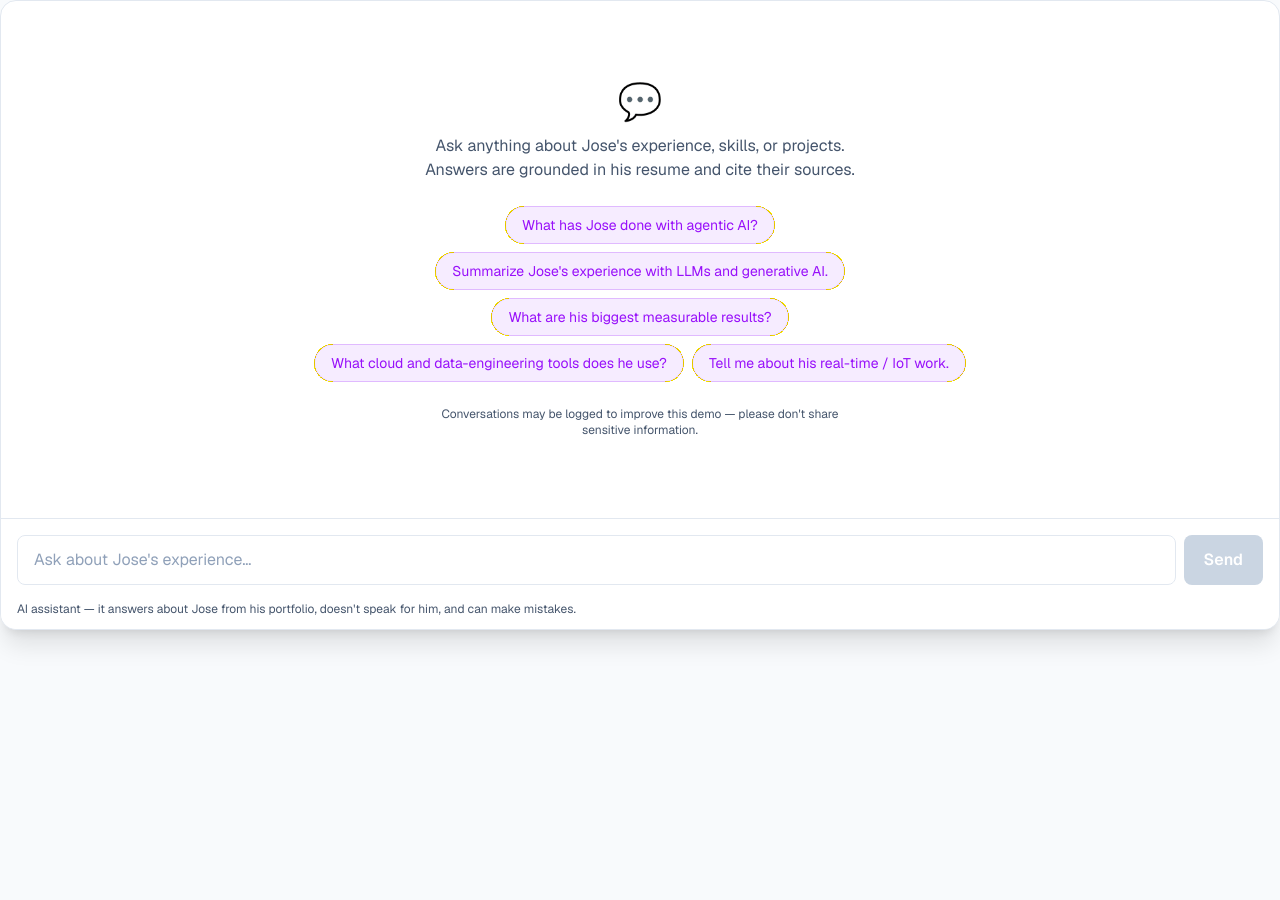
Test: AiChat (streaming) › shows an error bubble when the backend returns a non-OK response
Click the button "What are his biggest measurable results?".
click(640, 316)  # box [491,298,788,336]
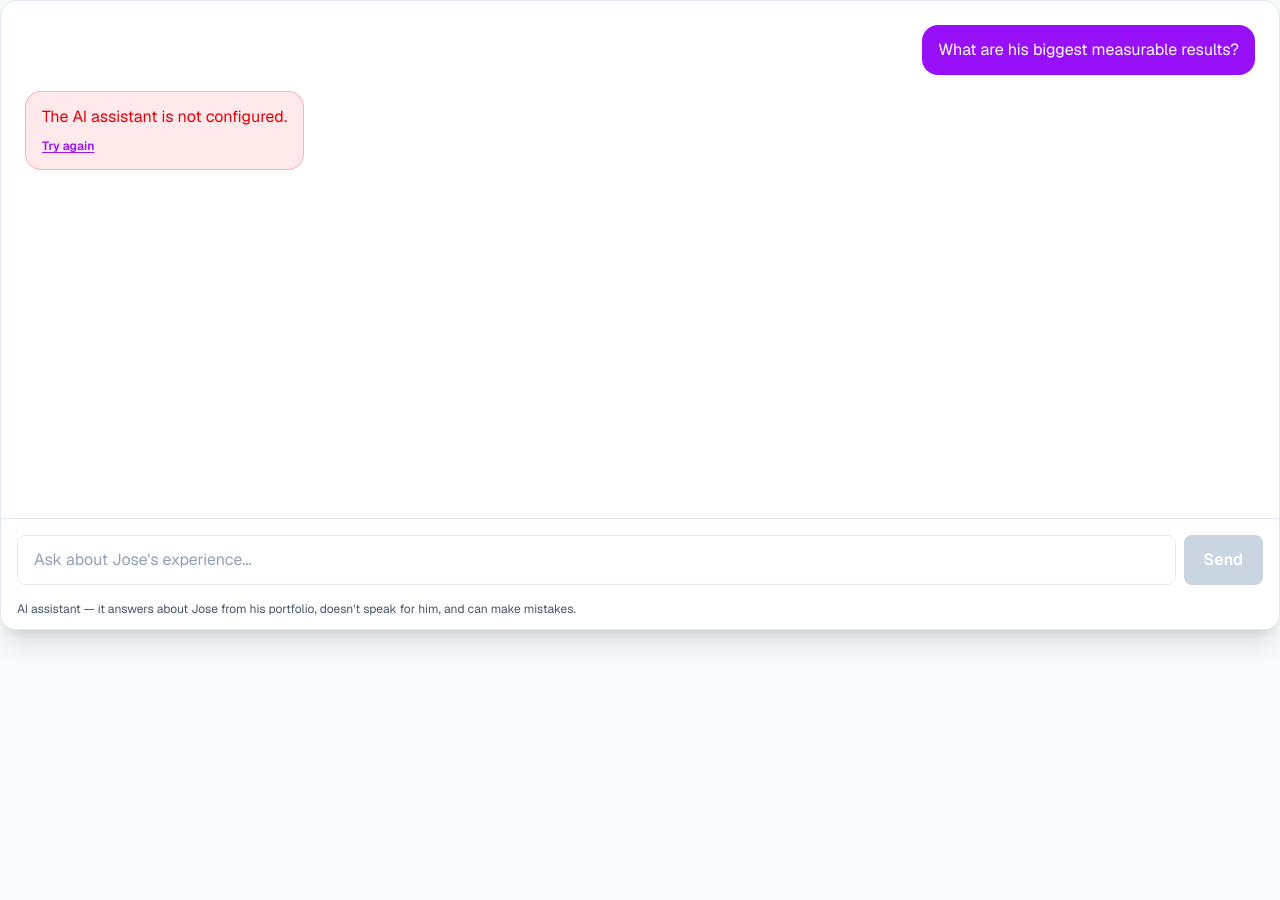
Check: the text "The AI assistant is not configured." is shown, box [42,104,287,130]
